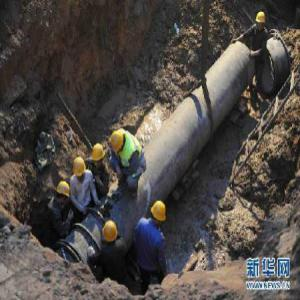yellow: (150, 200, 168, 230), (102, 219, 120, 247), (111, 130, 126, 158), (91, 145, 107, 171), (71, 157, 86, 181), (57, 181, 71, 205), (255, 10, 267, 32)
